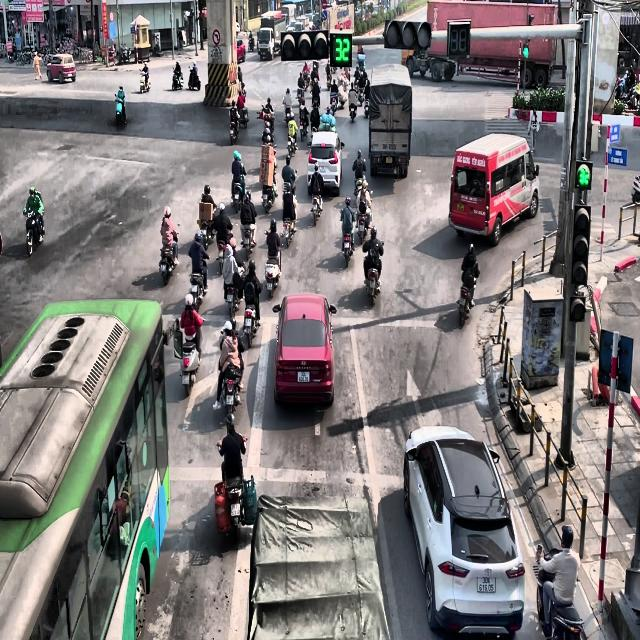lisence_plate: (476, 575, 496, 594), (379, 139, 400, 151), (297, 370, 310, 383), (456, 200, 465, 213), (386, 157, 395, 166), (320, 164, 328, 174)
